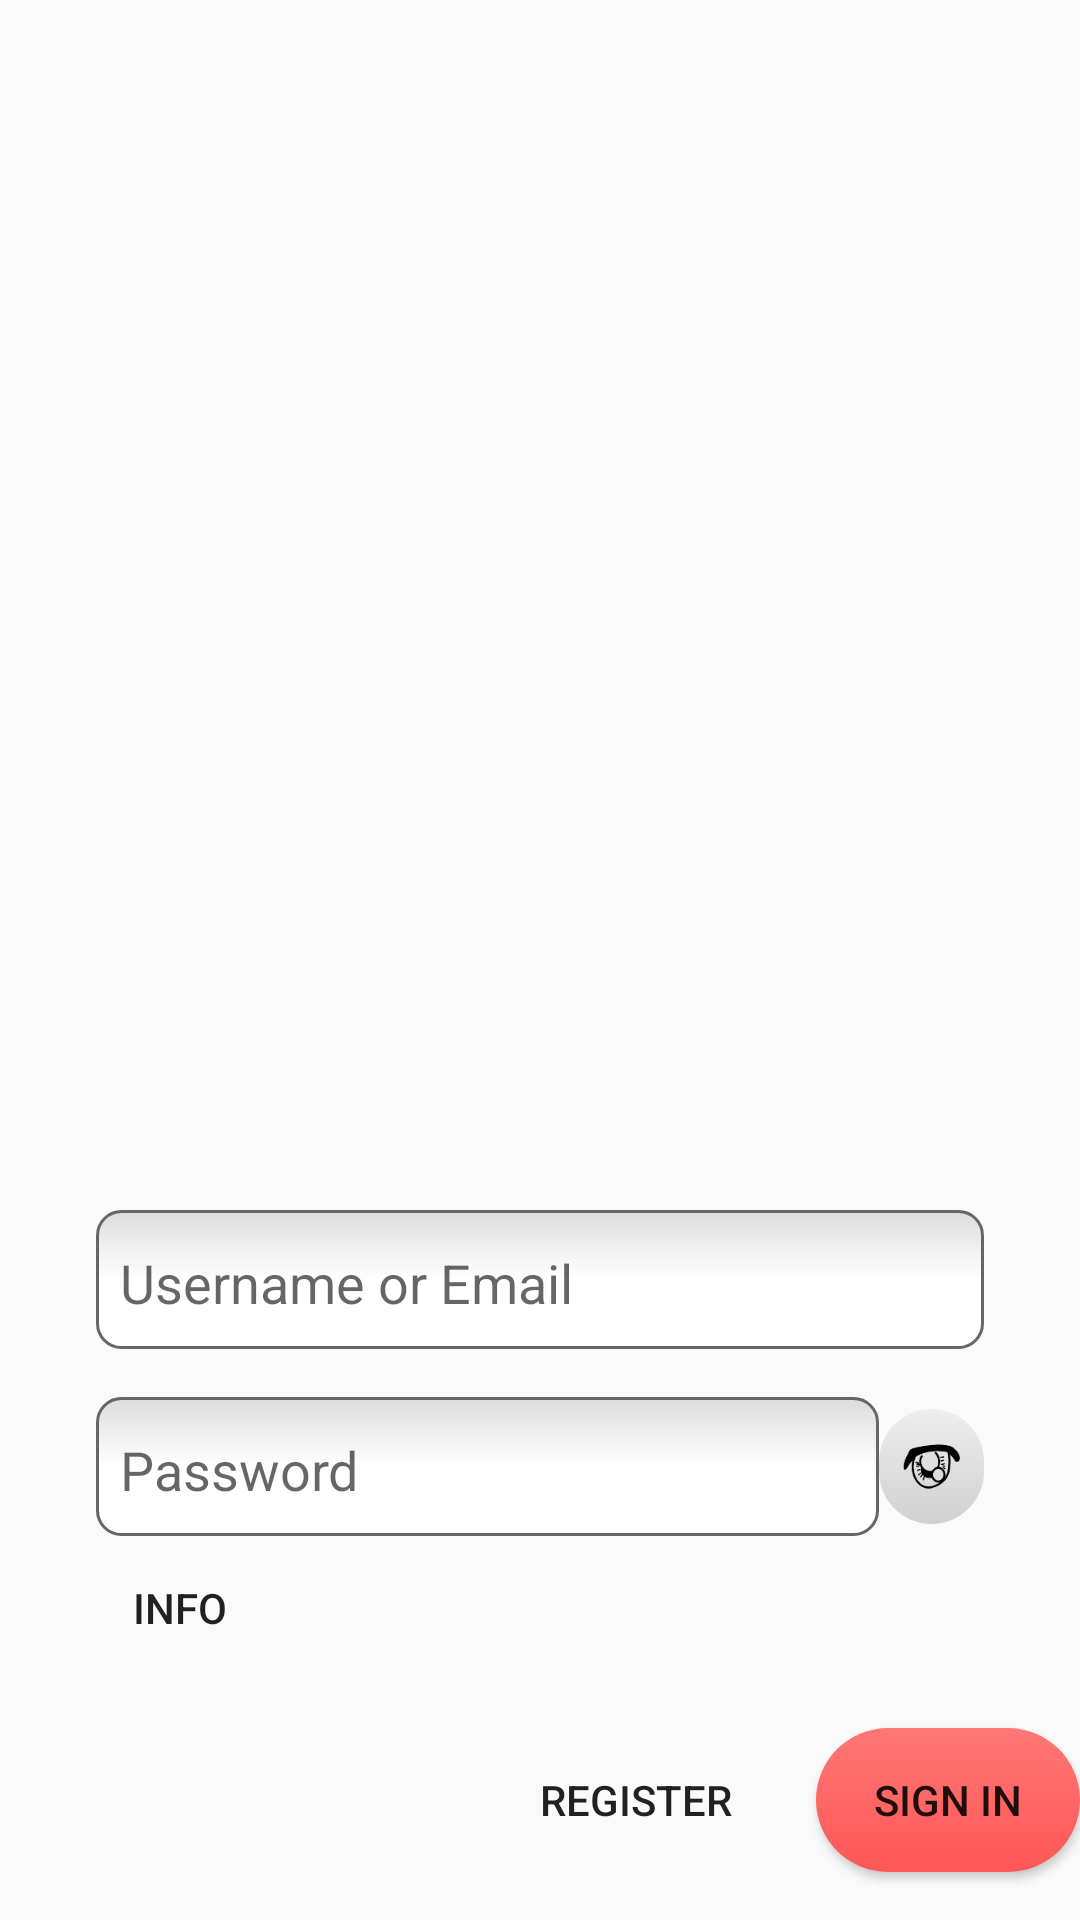

Where icons sit on this 1080*1920 app screen, as (x1, y1, x2, y2):
eye: (879, 1444, 984, 1524)
